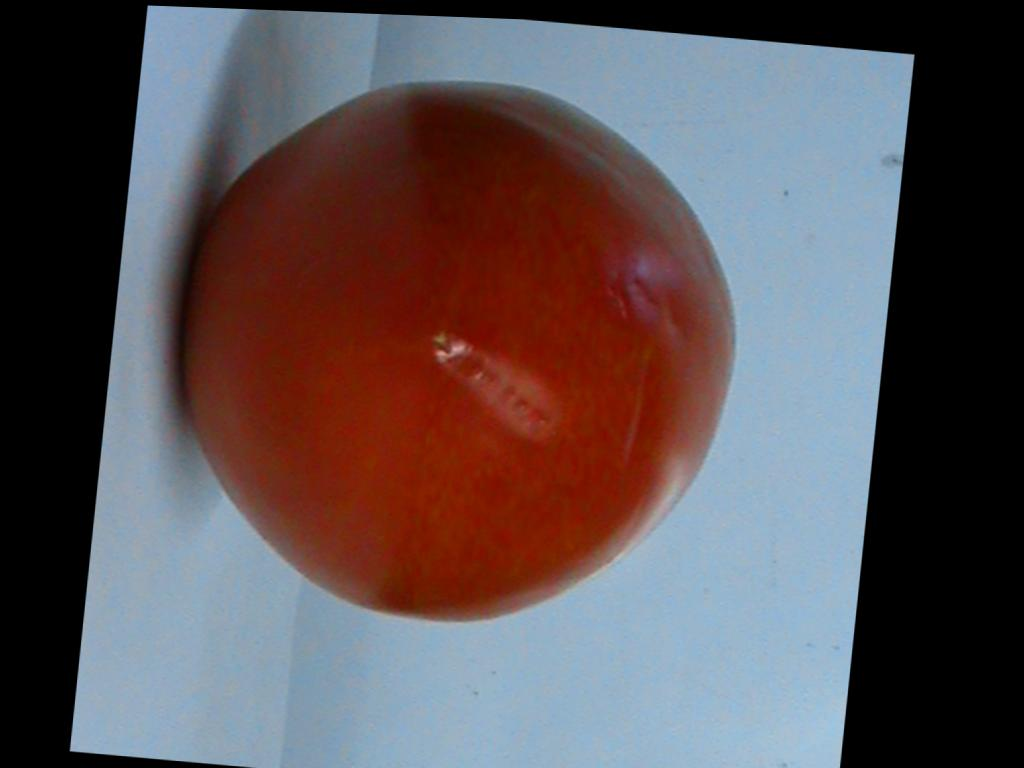surface_damage: (435, 334, 555, 440)
tomato: (186, 82, 733, 618)
